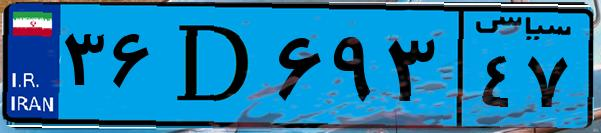3: (385, 28, 445, 110), (57, 26, 110, 100)
4: (475, 38, 525, 113)
6: (270, 28, 330, 110), (110, 28, 158, 98)
7: (525, 38, 570, 115)
9: (330, 28, 385, 110)
D: (158, 12, 270, 120)
